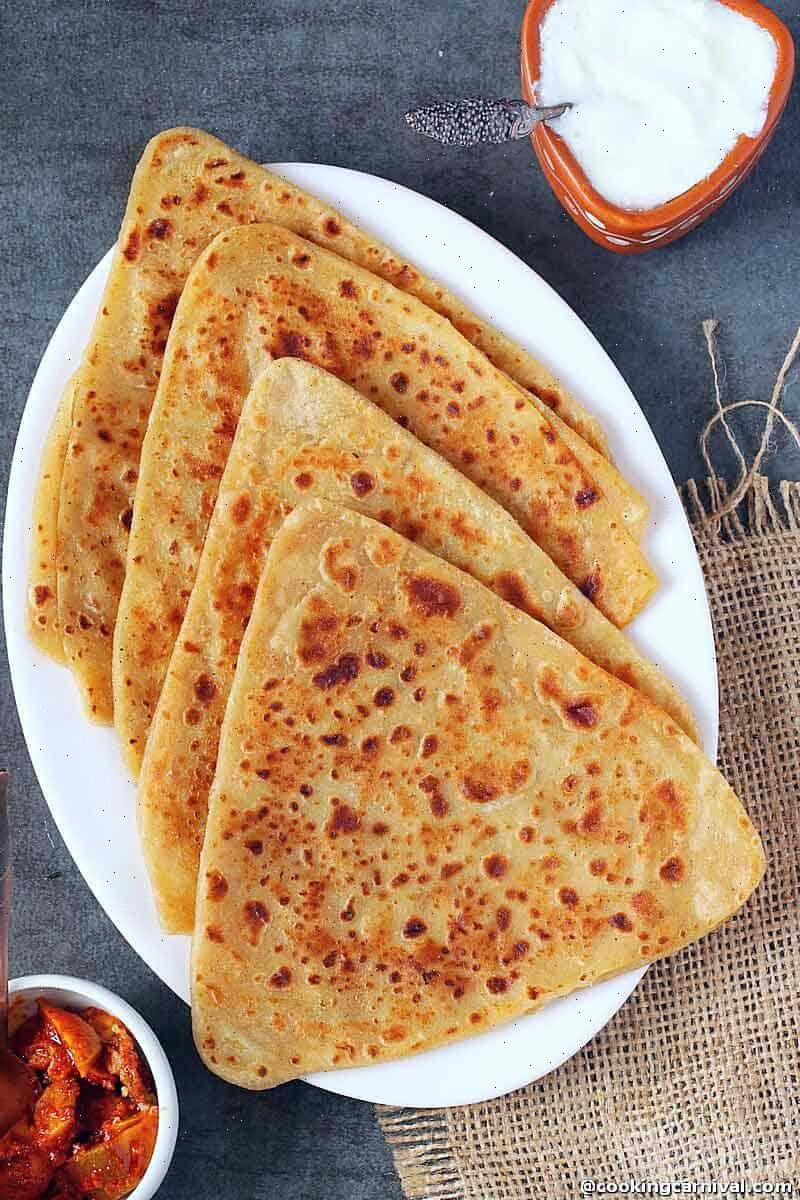paratha: (164, 247, 787, 1092)
yogurt: (490, 1, 800, 235)
